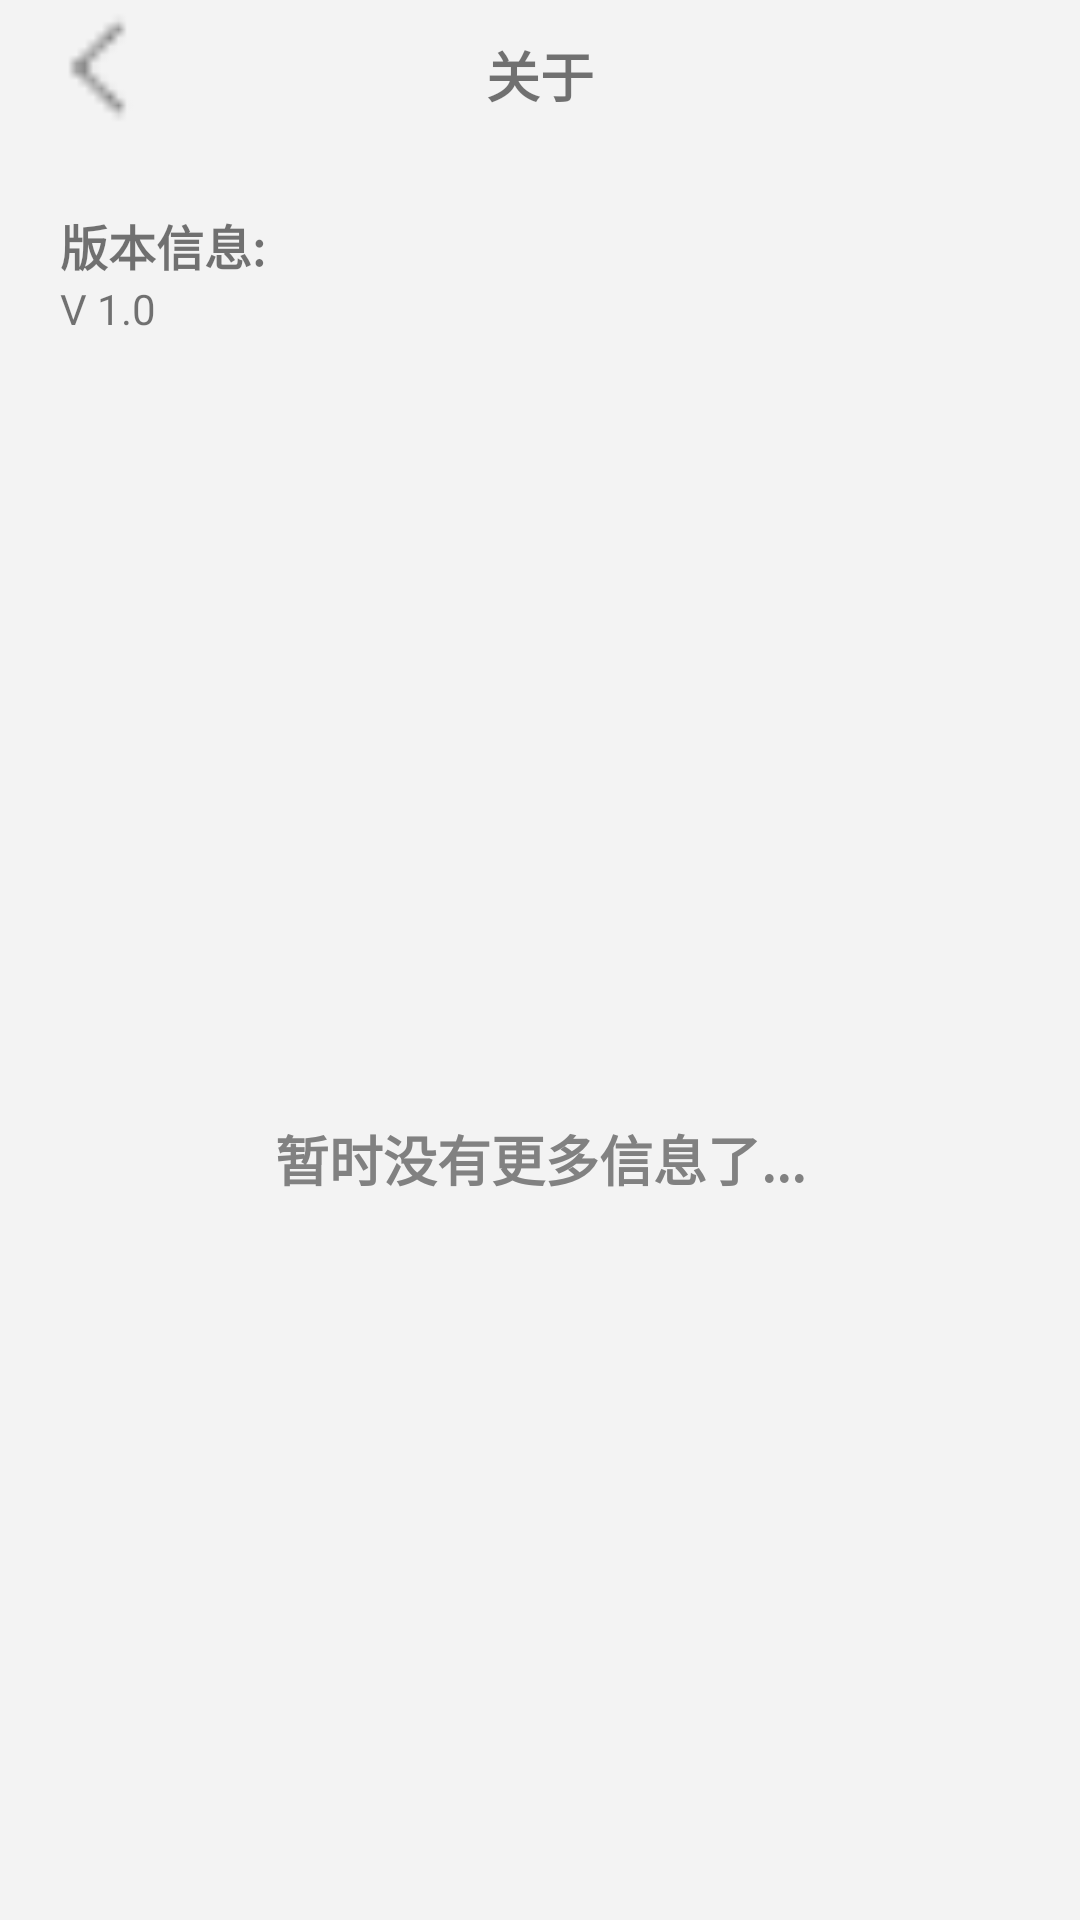

Where to tap for icons on this 1080 × 1920 app screen, as [x,y]:
it back: [98,68]
